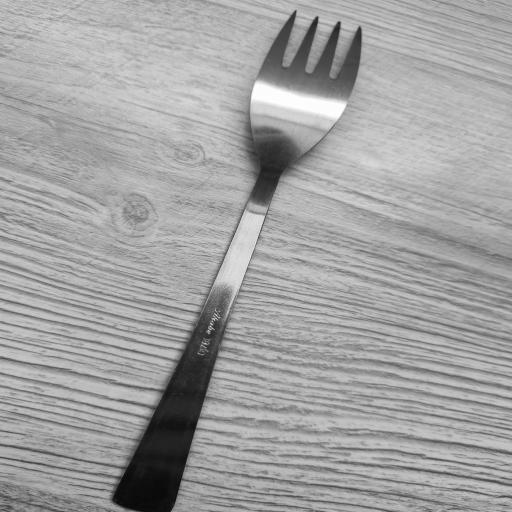fork: (116, 9, 368, 512)
